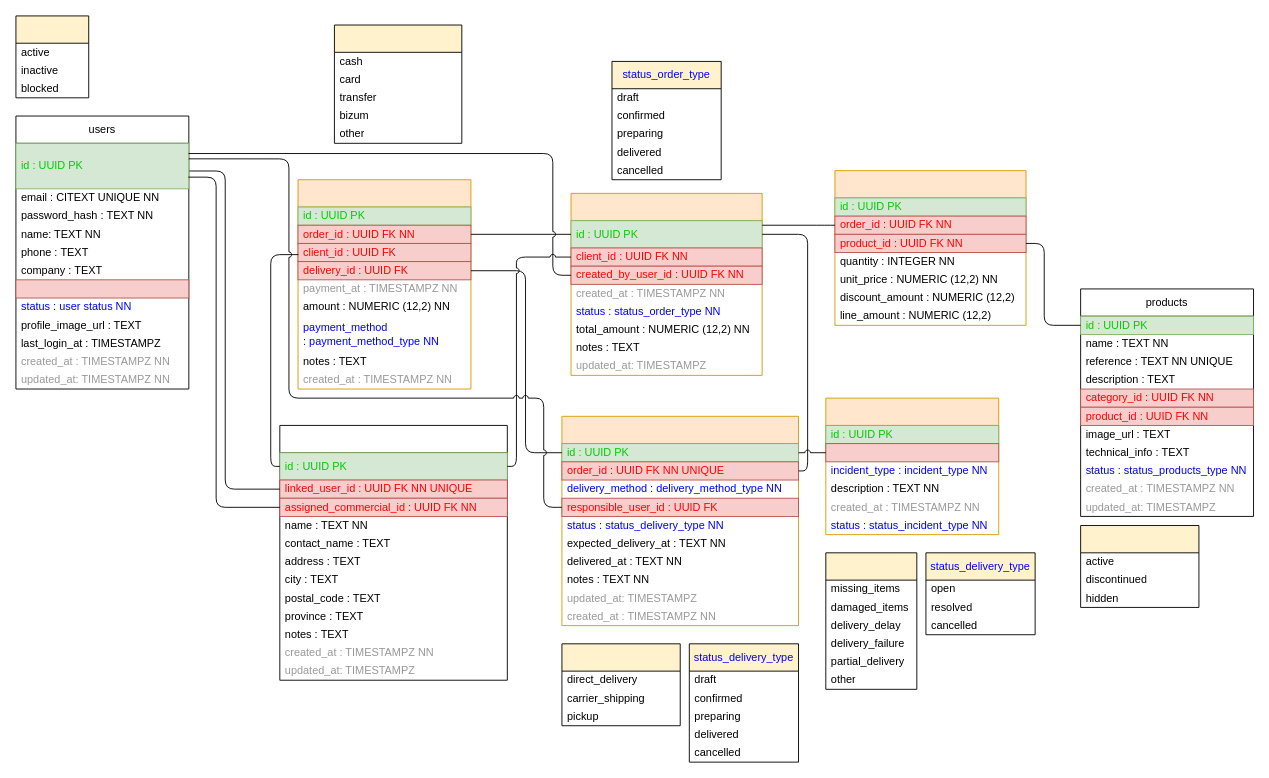
The diagram is 1269 pixels wide and 778 high, and some of its shapes have lost their labels. Here are the shapes that lost their labels. From the top down, the box of each, then its label:
(15, 15, 89, 98): user_status
(334, 24, 462, 143): payment_method_type
(834, 170, 1026, 325): order_lines
(15, 279, 189, 298): role_id : SMALLINT NN FK
(297, 179, 471, 389): payments
(570, 192, 762, 375): orders
(825, 443, 999, 462): delivery_id : UUID FK NN
(825, 397, 999, 535): delivery_incidents
(561, 415, 799, 626): deliveries
(279, 425, 507, 680): clients
(1080, 525, 1199, 607): status_products_type
(825, 552, 917, 689): incident_type
(561, 643, 680, 726): delivery_method_type
